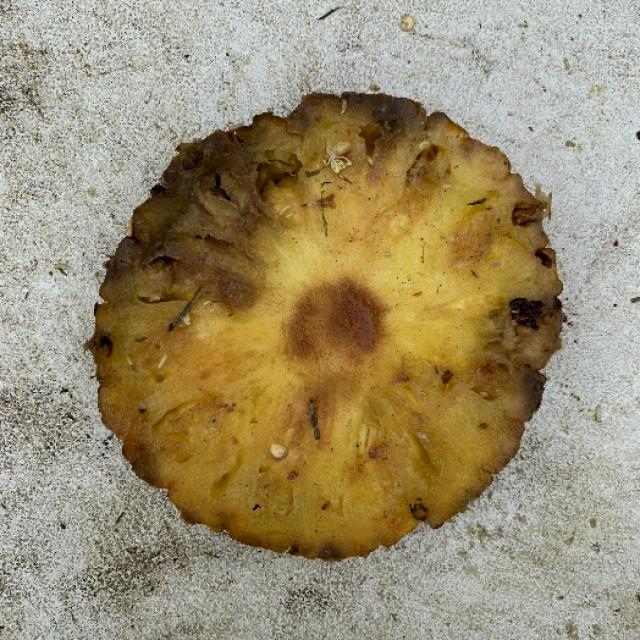wet: (82, 90, 568, 558)
